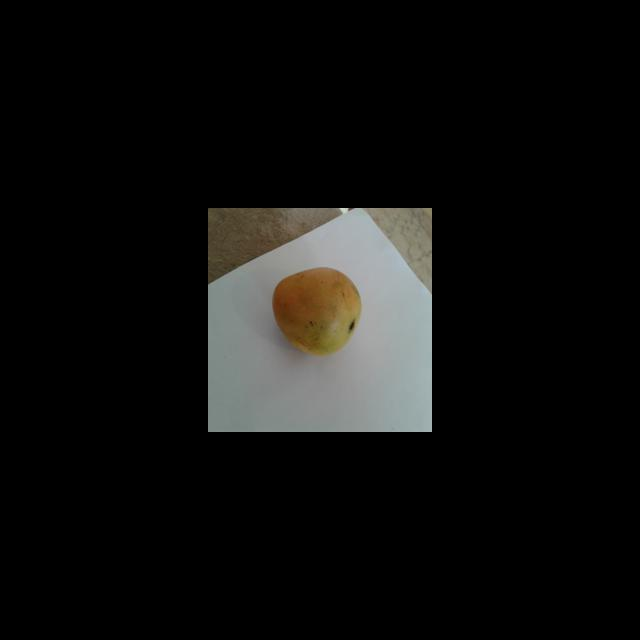Mango: (271, 266, 361, 356)
